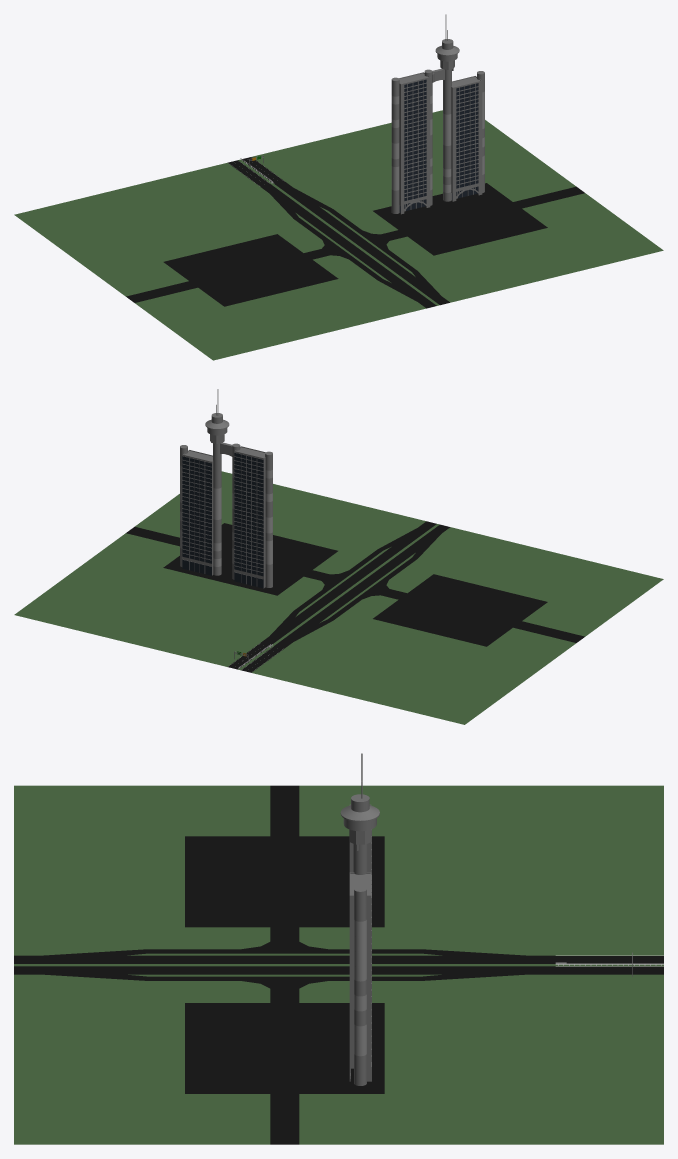
Rendered from road_pieces.fbx.
The picture shows the model from 3 angles, top to bottom: view 1: azimuth 30°, elevation 25°; view 2: azimuth 150°, elevation 25°; view 3: azimuth 270°, elevation 25°; orthographic projection. The views are drawn at different scales.
Visible parts, largest first — view 1: autoput_start, autoput_middle, genex_stan, genex, genex_posl; view 2: autoput_start, autoput_middle, genex_stan, genex_posl, genex; view 3: autoput_start, autoput_middle, genex, genex_posl.
Boxes of the visible parts, <box> form: autoput_start: <box>47,129,663,360</box>; autoput_middle: <box>14,110,497,238</box>; genex_stan: <box>399,72,430,214</box>; genex: <box>391,14,484,213</box>; genex_posl: <box>451,76,482,201</box>; autoput_start: <box>47,471,663,700</box>; autoput_middle: <box>14,590,497,724</box>; genex_stan: <box>234,446,265,588</box>; genex_posl: <box>182,450,213,575</box>; genex: <box>180,389,272,587</box>; autoput_start: <box>14,785,555,1144</box>; autoput_middle: <box>555,785,663,1144</box>; genex: <box>340,753,379,1085</box>; genex_posl: <box>349,872,371,1081</box>.
Bounding box in the file's own units: 31357 × 12327 × 24000.
